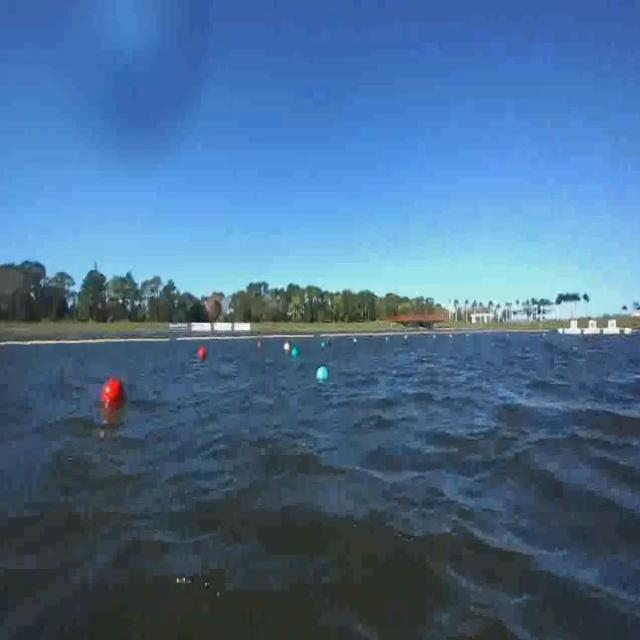green-buoy: (316, 365, 328, 384), (290, 344, 300, 362)
red-buoy: (105, 377, 126, 406), (256, 339, 266, 353), (199, 346, 207, 361)
